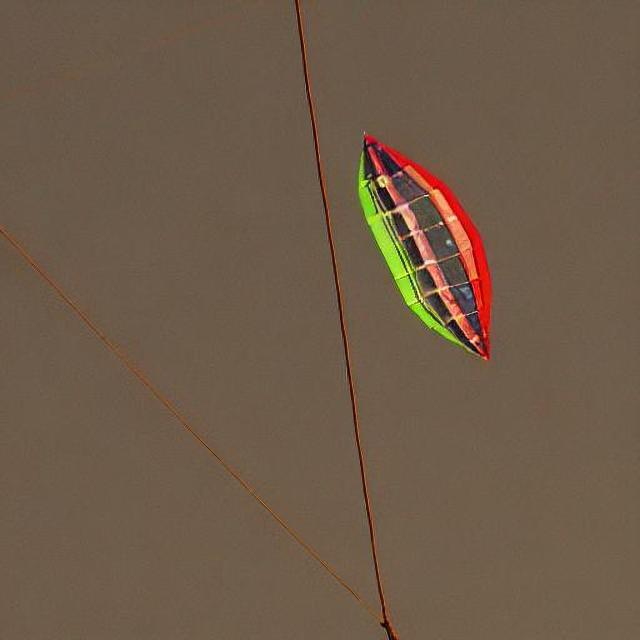floating object: (351, 120, 502, 372)
